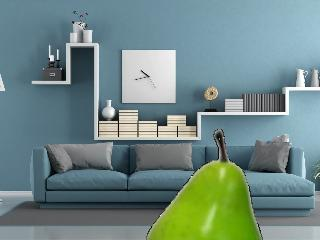pear: (146, 131, 263, 239)
